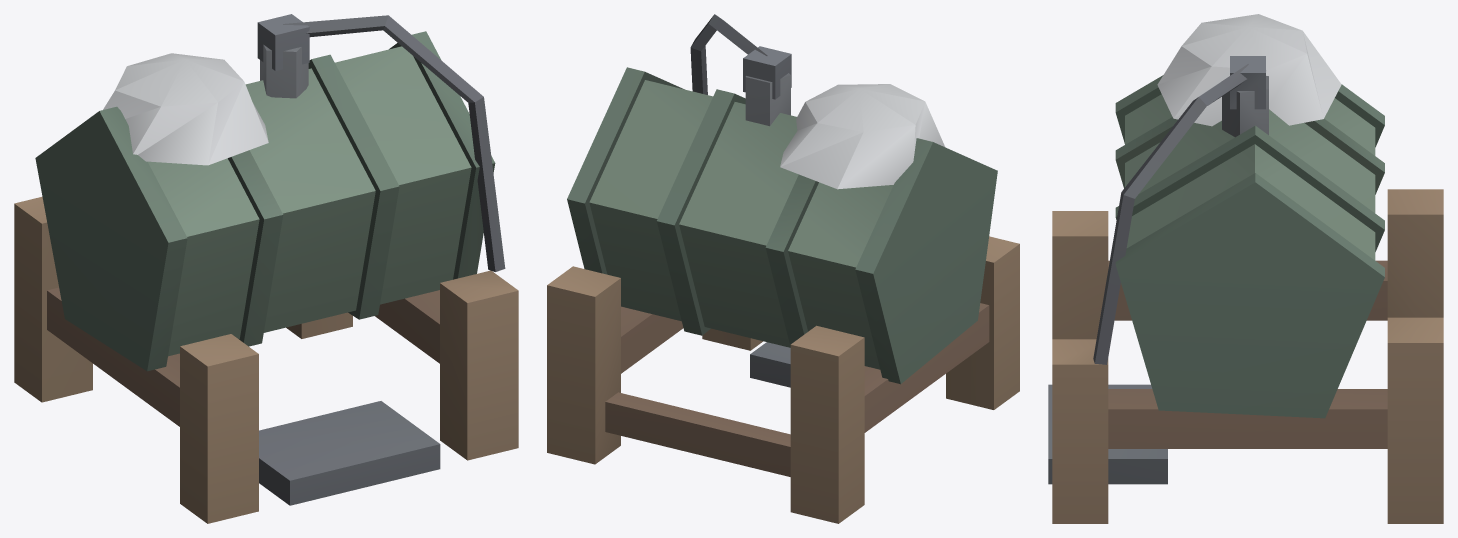
The model's file is drum.lod1.glb.
3 views of the same model, side by side, from view 1: azimuth 30°, elevation 25°; view 2: azimuth 150°, elevation 25°; view 3: azimuth 270°, elevation 25° (orthographic). The views are drawn at different scales.
Size of the model in its own units: 0.956 by 1.1 by 0.99.
